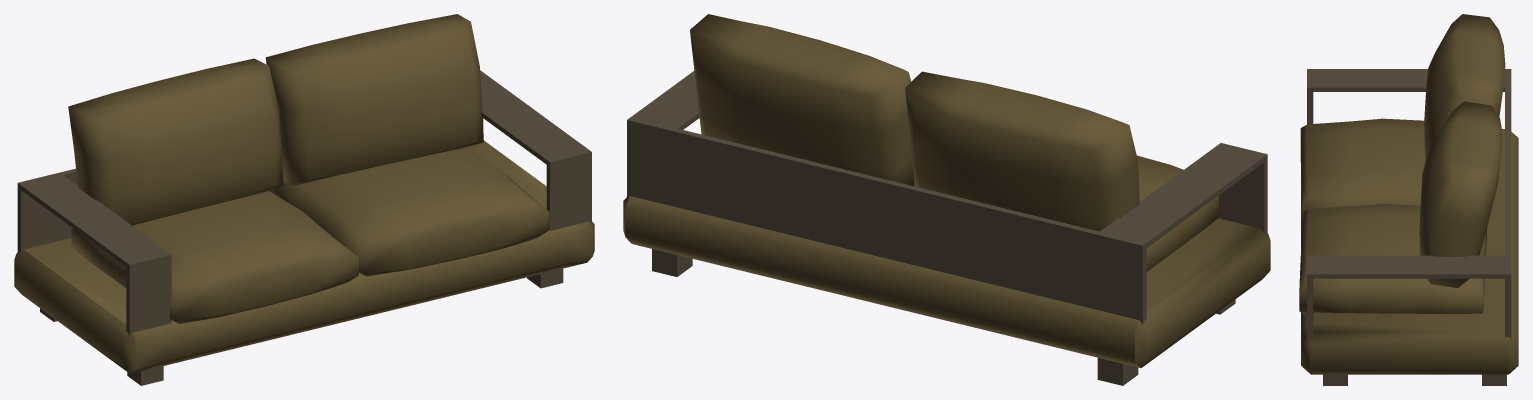
The picture shows the model from 3 angles, left to right: view 1: azimuth 30°, elevation 25°; view 2: azimuth 150°, elevation 25°; view 3: azimuth 270°, elevation 25°; orthographic projection. The views are drawn at different scales.
Parts seen in each view (by area): view 1: Couch_Medium2_Cube.047; view 2: Couch_Medium2_Cube.047; view 3: Couch_Medium2_Cube.047.
Part boxes in pixels (x1=…): Couch_Medium2_Cube.047: x1=14, y1=14, x2=594, y2=385; Couch_Medium2_Cube.047: x1=623, y1=14, x2=1270, y2=385; Couch_Medium2_Cube.047: x1=1299, y1=14, x2=1518, y2=385.
Size of the model in its own units: 4.52 by 1.96 by 2.
